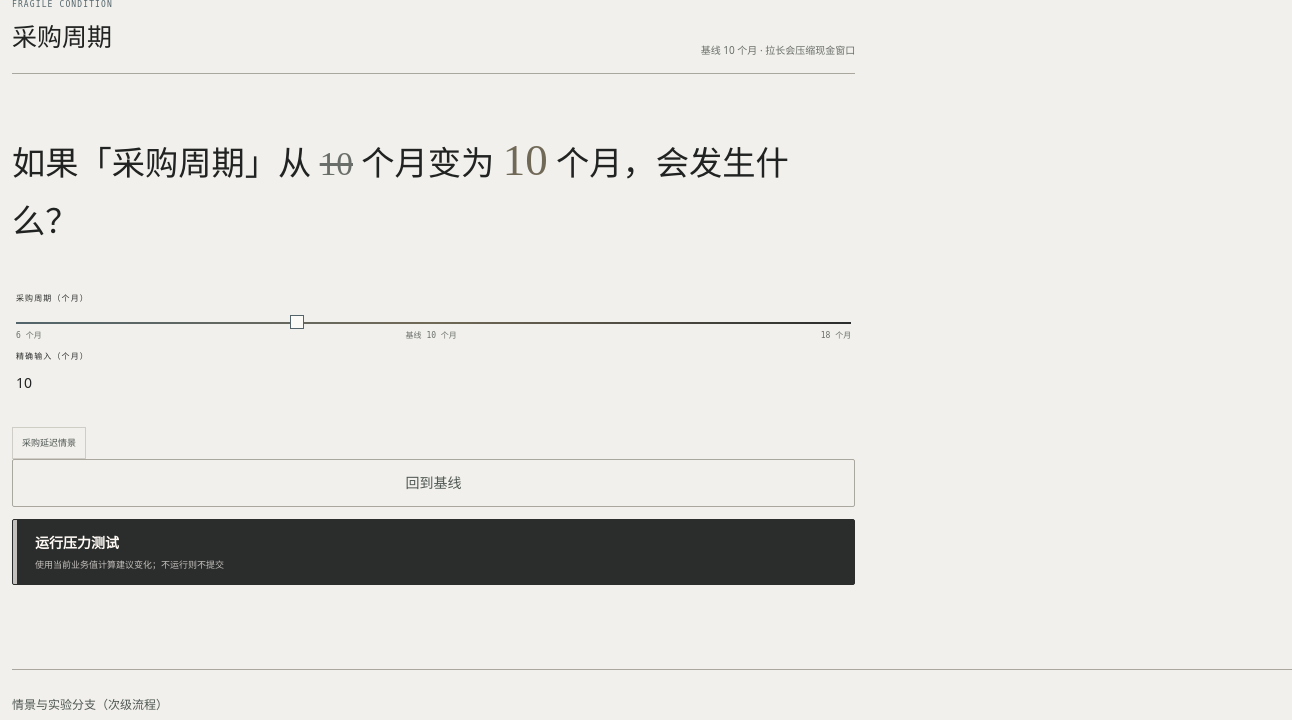
Task 13 sandbox: idempotency, uniform 404 and formal gate › API GRAPH_NOT_CONFIRMED rejection is surfaced honestly (server-side gate)
(page scrolled)
Click the button "运行压力测试 使用当前业务值计算建议变化；不运行则不提交".
click(77, 543)  # box [12,519,855,585]
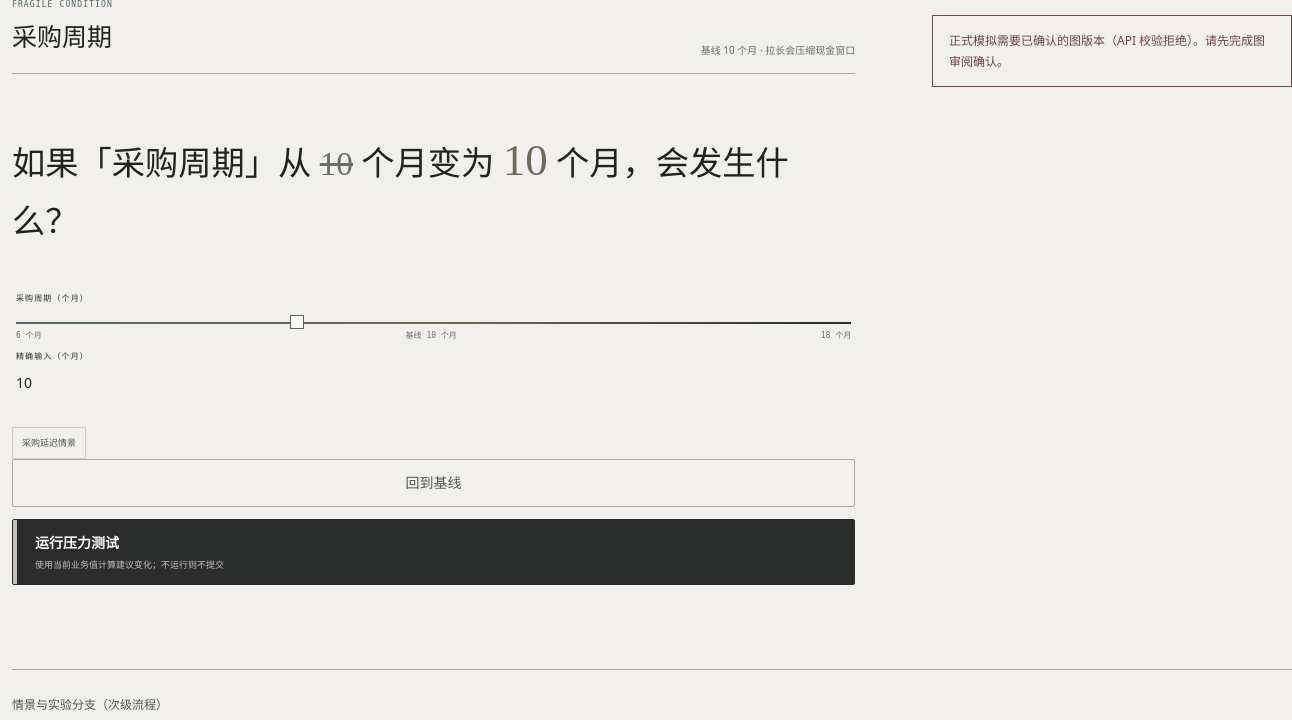
Expected: the message shows "正式模拟需要已确认的图版本（API 校验拒绝）", [949,32,1265,70]
